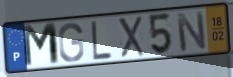5: (147, 11, 174, 57)
G: (57, 21, 85, 64)
L: (90, 19, 114, 61)
M: (21, 21, 62, 70)
N: (174, 10, 208, 53)
X: (116, 15, 146, 59)
